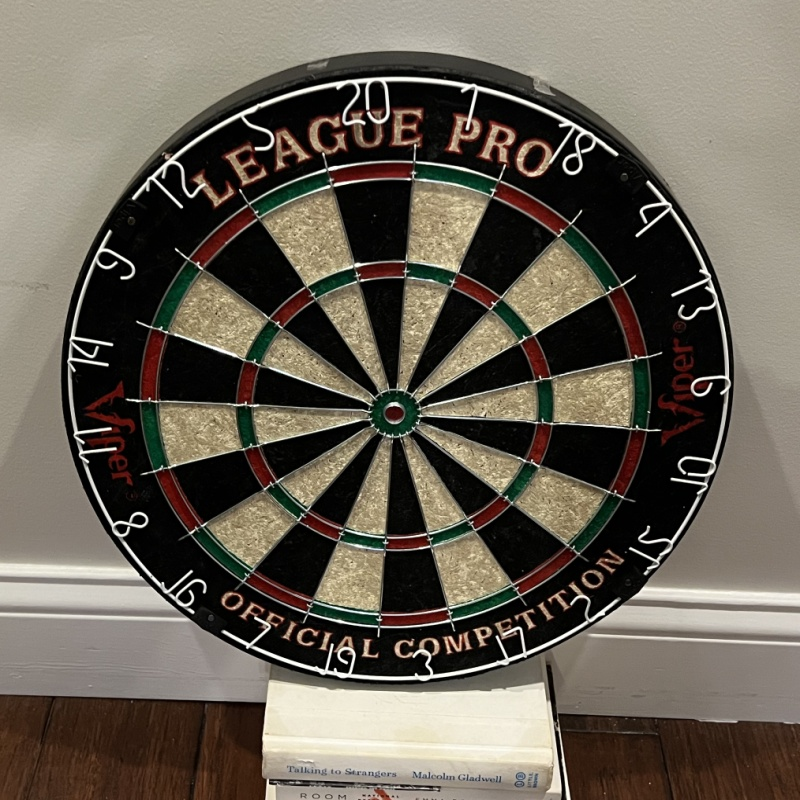eleven: (71, 425, 120, 464)
six: (686, 374, 738, 399)
three: (409, 648, 441, 681)
twenty: (333, 79, 392, 127)
